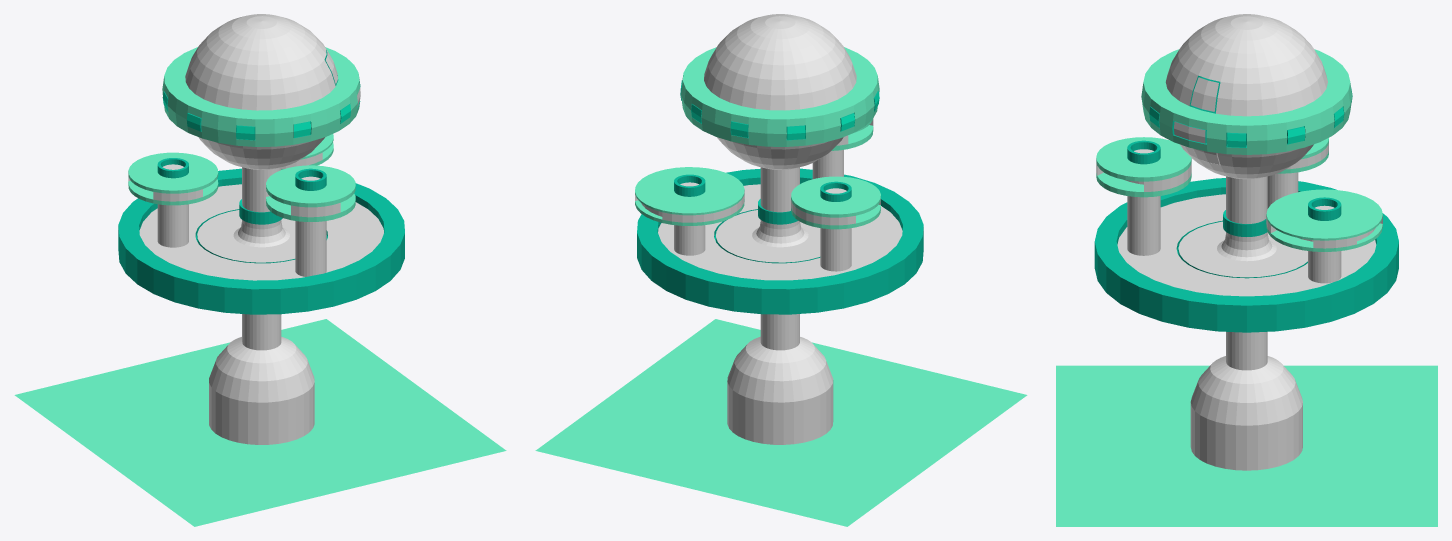
The model's file is mobile_1_green.fbx.
3 views of the same model, side by side, from view 1: azimuth 30°, elevation 25°; view 2: azimuth 150°, elevation 25°; view 3: azimuth 270°, elevation 25° (orthographic). The views are drawn at different scales.
Visible parts, largest first — view 1: Cylinder.003, Plane; view 2: Cylinder.003, Plane; view 3: Cylinder.003, Plane.
Part boxes in pixels (left/top/right/bottom): Cylinder.003: left=118, top=14, right=404, bottom=444; Plane: left=14, top=319, right=506, bottom=526; Cylinder.003: left=635, top=14, right=923, bottom=444; Plane: left=535, top=319, right=1027, bottom=526; Cylinder.003: left=1094, top=14, right=1398, bottom=470; Plane: left=1056, top=365, right=1437, bottom=526.
Size of the model in its own units: 1000 by 1249 by 1000.
